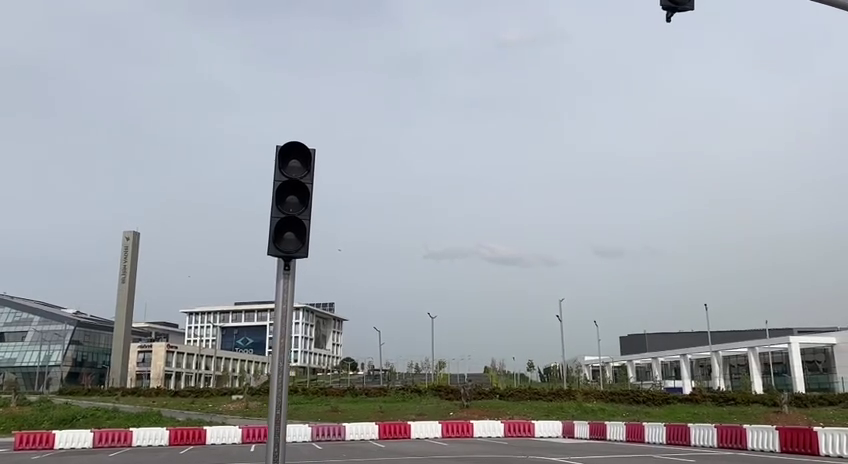trafficLight: (262, 136, 320, 265)
